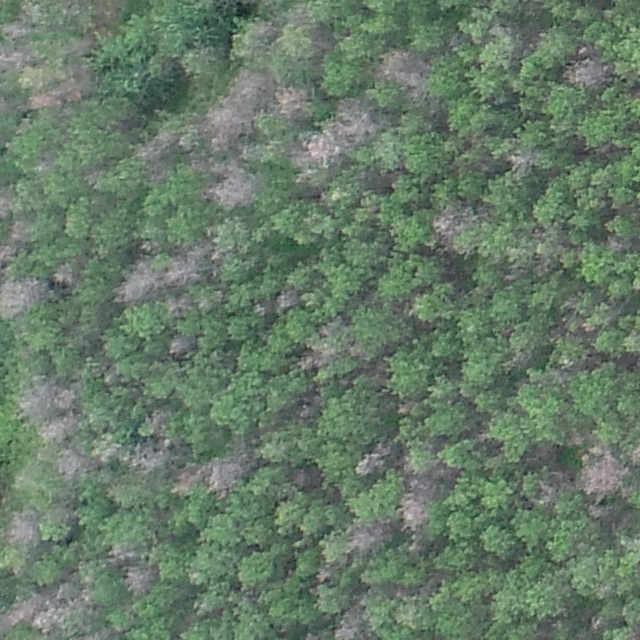unhealthy: (201, 71, 266, 149), (17, 374, 77, 429), (204, 160, 256, 211), (577, 445, 627, 498), (326, 86, 374, 138), (376, 45, 428, 93), (114, 259, 161, 305), (28, 74, 88, 109), (205, 449, 251, 494), (291, 132, 343, 171), (135, 127, 176, 176), (0, 275, 46, 317), (563, 55, 611, 88), (346, 520, 392, 554), (127, 439, 173, 472), (430, 203, 470, 240), (354, 439, 394, 476), (31, 593, 69, 631), (161, 254, 202, 289), (273, 83, 311, 120), (5, 508, 41, 546), (538, 469, 573, 505), (55, 453, 92, 487), (1, 594, 35, 630), (333, 608, 371, 639), (397, 493, 427, 530), (46, 425, 82, 455), (170, 463, 201, 497), (0, 43, 35, 72), (125, 565, 158, 595), (297, 346, 335, 372), (57, 35, 94, 60), (406, 468, 440, 495), (92, 430, 122, 460), (51, 260, 84, 287), (0, 17, 36, 41), (141, 406, 170, 434), (504, 150, 536, 173), (166, 293, 194, 318), (167, 334, 195, 357), (0, 181, 15, 223), (290, 466, 317, 489), (8, 217, 32, 242), (275, 286, 299, 309), (584, 502, 611, 521), (0, 239, 16, 268), (81, 628, 119, 640), (605, 235, 627, 253), (298, 628, 329, 639), (630, 441, 640, 469)
